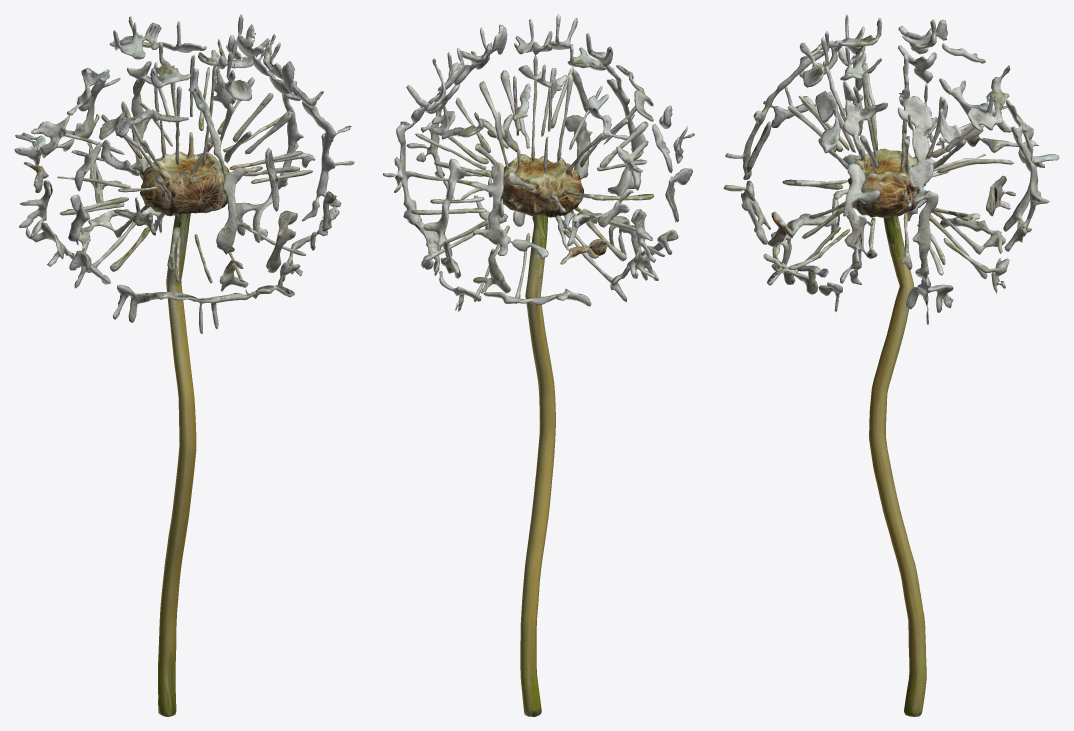
Rendered from dandelion.glb.
3 views of the same model, side by side, from view 1: azimuth 30°, elevation 25°; view 2: azimuth 150°, elevation 25°; view 3: azimuth 270°, elevation 25° (orthographic). The views are drawn at different scales.
Size of the model in its own units: 0.899 by 2 by 0.8892.
Materials: 1 (1 with a texture image).
